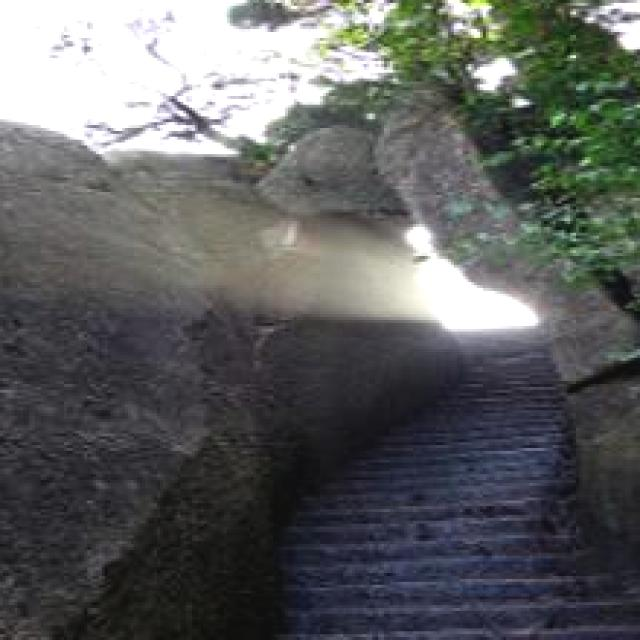upstair: (283, 461, 621, 638)
